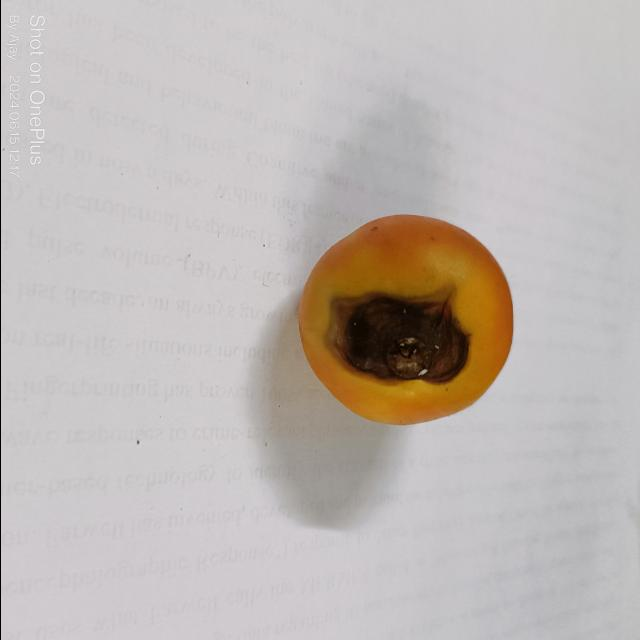Anthrocnose: (331, 285, 473, 381)
